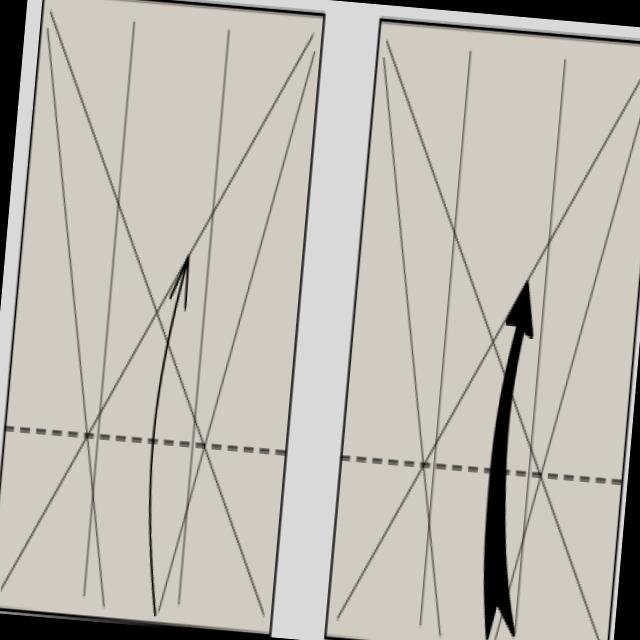arrow: (483, 282, 532, 638), (148, 256, 189, 614)
fold-line: (0, 18, 316, 593), (325, 71, 639, 639), (380, 27, 606, 639), (47, 3, 267, 624), (152, 48, 317, 620), (486, 109, 639, 639), (377, 35, 446, 639), (40, 13, 107, 613), (413, 44, 478, 632), (508, 51, 572, 638), (171, 23, 235, 608), (78, 8, 140, 599), (331, 441, 628, 496), (0, 411, 292, 463)
